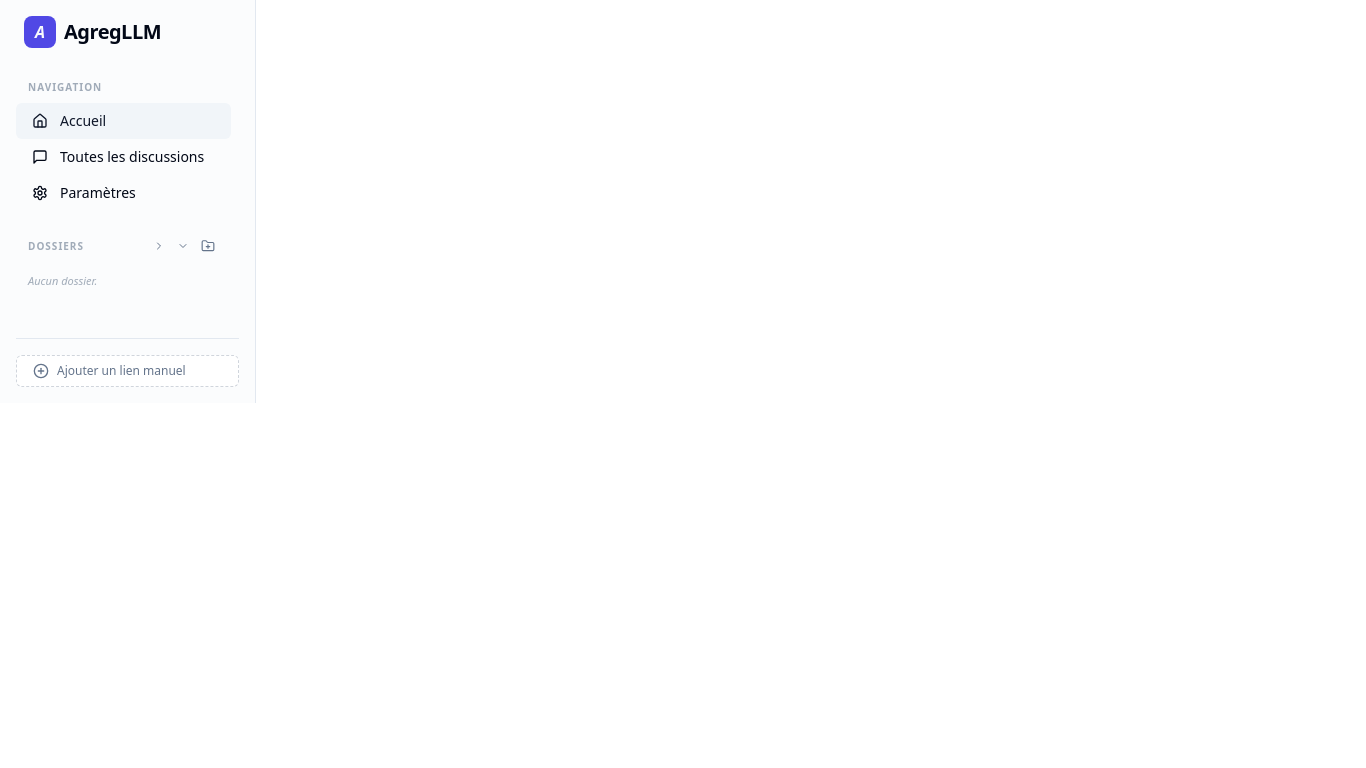
Sidebar › permet d'ouvrir le dialogue d'ajout manuel
Click the button "Ajouter un lien manuel" at (128, 370), box [16,354,239,386]
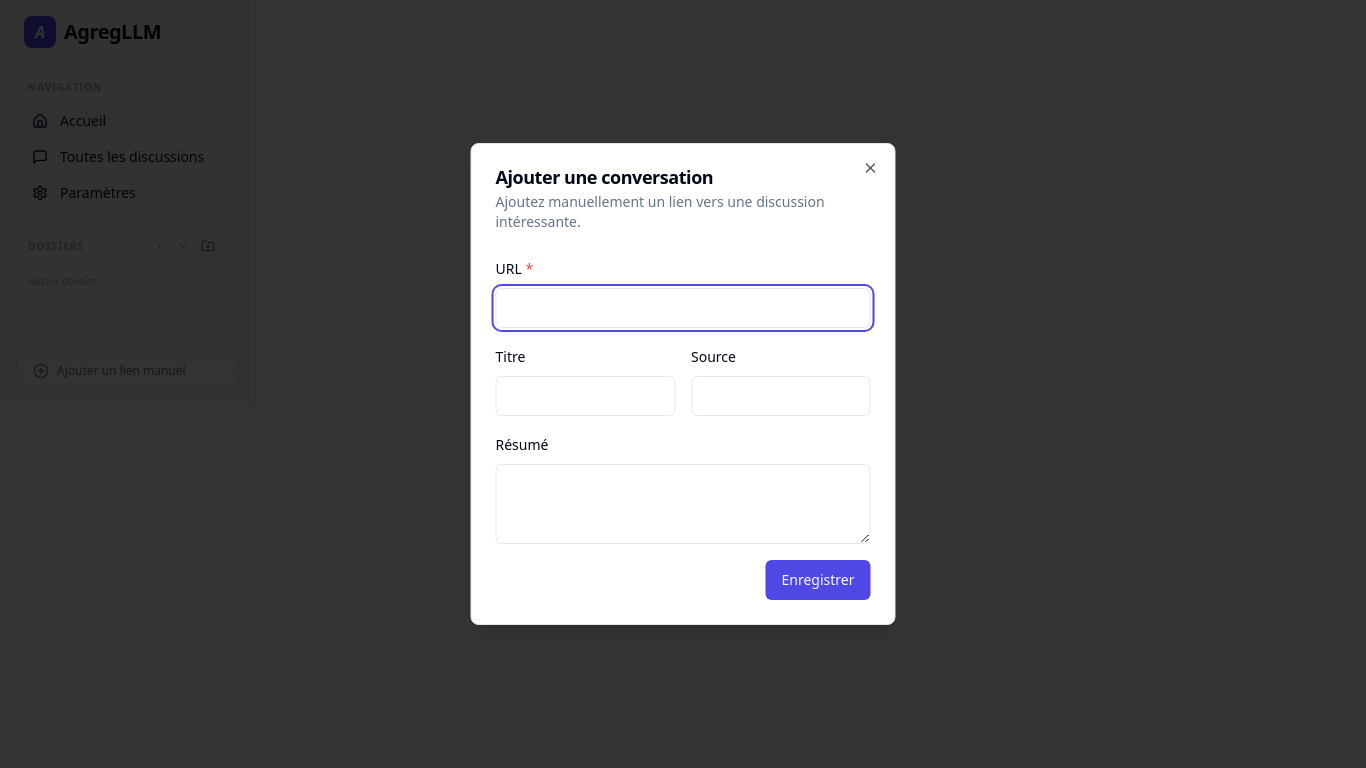
Check: the heading "Ajouter une conversation" is shown, box [496,165,713,189]
